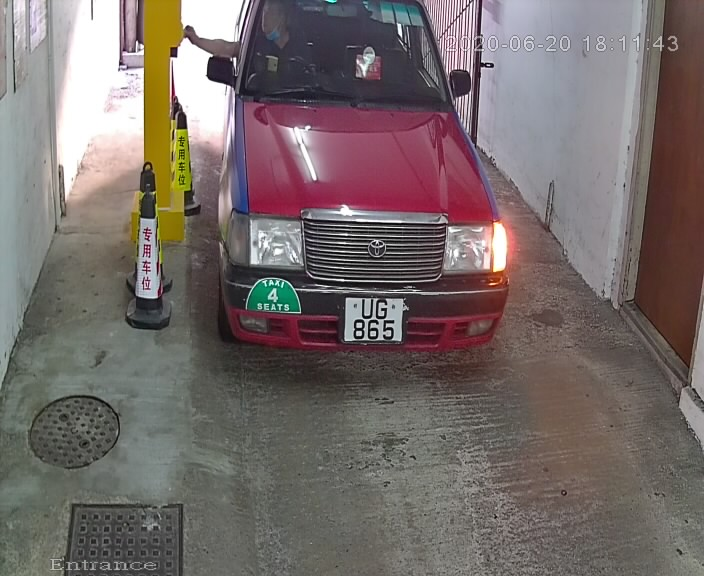taxi: (202, 2, 556, 390)
taxi_mark: (238, 261, 313, 334)
